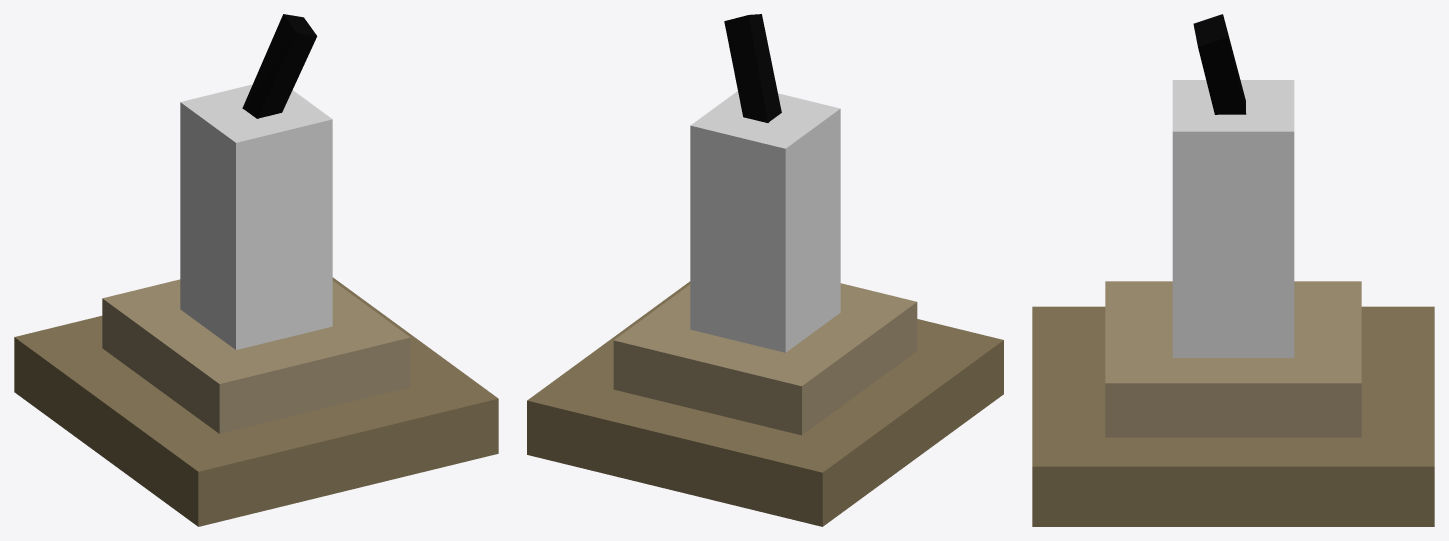
File: Candle Light 02.FBX
The picture shows the model from 3 angles, left to right: view 1: azimuth 30°, elevation 25°; view 2: azimuth 150°, elevation 25°; view 3: azimuth 270°, elevation 25°; orthographic projection. The views are drawn at different scales.
Visible parts, largest first — view 1: Candle Light 02; view 2: Candle Light 02; view 3: Candle Light 02.
Part boxes in pixels (<box>): Candle Light 02: <box>14,14,498,526</box>; Candle Light 02: <box>527,14,1003,526</box>; Candle Light 02: <box>1032,14,1434,526</box>.
Size of the model in its own units: 34.15 by 44.26 by 36.28.
